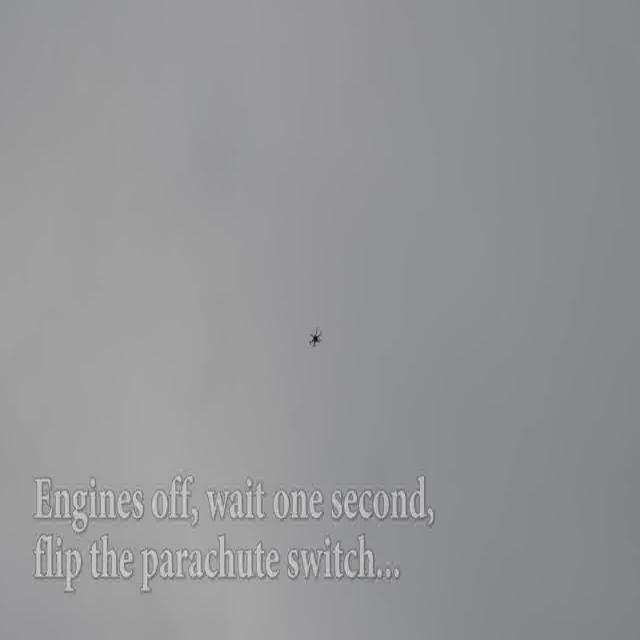drone: (307, 325, 324, 348)
